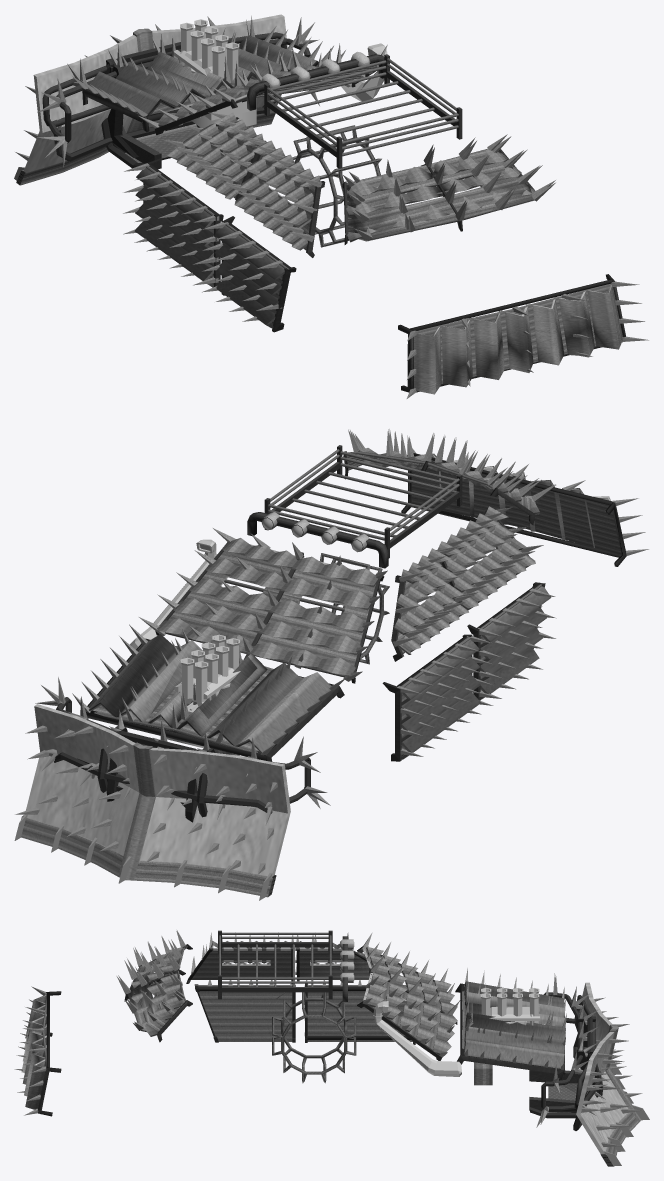
Rendered from CarModernArmor.fbx.
3 views of the same model, one above another, from view 1: azimuth 30°, elevation 25°; view 2: azimuth 150°, elevation 25°; view 3: azimuth 270°, elevation 25° (orthographic). The views are drawn at different scales.
Visible parts, largest first — view 1: trunkreinforcedrear, plow, roofrack, windowheavyrear, doorfrontreinforcedleft, hoodreinforcedfront, windowrearreinforcedleft, windowreinforcedrear, doorrearreinforcedleft, windowfrontreinforcedleft, hoodreinforcedfrontscoop, airscooppiped (+24 smaller); view 2: plow, plow_spiked, windowreinforcedfront, hoodreinforcedfront, hoodreinforcedfrontscoop, roofrack, windowheavyfront, trunkheavyspikedrear, trunkheavyrear, doorfrontreinforcedleft, windowrearreinforcedleft, doorrearreinforcedleft (+24 smaller); view 3: hoodreinforcedfront, plow, windowreinforcedfront, doorrearheavyleft, roofrack, doorfrontheavyleft, windowrearheavyleft, chaintires, plow_spiked, trunkreinforcedrear, hoodreinforcedfrontscoop, doorrearheavyspikedleft (+21 smaller).
Boxes of the visible parts, x1,y1,x2,y2 form: trunkreinforcedrear: (409, 279, 622, 394); plow: (14, 14, 287, 185); roofrack: (264, 54, 462, 168); windowheavyrear: (342, 149, 534, 244); doorfrontreinforcedleft: (135, 164, 218, 287); hoodreinforcedfront: (88, 35, 318, 121); windowrearreinforcedleft: (234, 140, 320, 250); windowreinforcedrear: (346, 149, 534, 242); doorrearreinforcedleft: (214, 222, 290, 328); windowfrontreinforcedleft: (167, 112, 263, 199); hoodreinforcedfrontscoop: (88, 36, 317, 122); airscooppiped: (173, 19, 256, 128); plow: (14, 704, 290, 900); plow_spiked: (15, 707, 287, 876); windowreinforcedfront: (157, 538, 377, 676); hoodreinforcedfront: (86, 634, 337, 760); hoodreinforcedfrontscoop: (86, 635, 333, 760); roofrack: (264, 445, 462, 558); windowheavyfront: (161, 542, 383, 683); trunkheavyspikedrear: (407, 442, 648, 555); trunkheavyrear: (401, 455, 626, 566); doorfrontreinforcedleft: (397, 636, 480, 759); windowrearreinforcedleft: (437, 506, 535, 610); doorrearreinforcedleft: (477, 584, 551, 699); hoodreinforcedfront: (460, 982, 565, 1073); plow: (562, 982, 649, 1166); windowreinforcedfront: (366, 947, 457, 1054); doorrearheavyleft: (194, 984, 295, 1042); roofrack: (218, 930, 332, 999); doorfrontheavyleft: (305, 983, 415, 1044); windowrearheavyleft: (186, 948, 292, 983); chaintires: (272, 992, 356, 1083); plow_spiked: (581, 997, 642, 1151); trunkreinforcedrear: (21, 991, 49, 1109); hoodreinforcedfrontscoop: (461, 981, 565, 1074); doorrearheavyspikedleft: (200, 980, 292, 1041).
Size of the model in its own units: 283 by 203 by 690.
